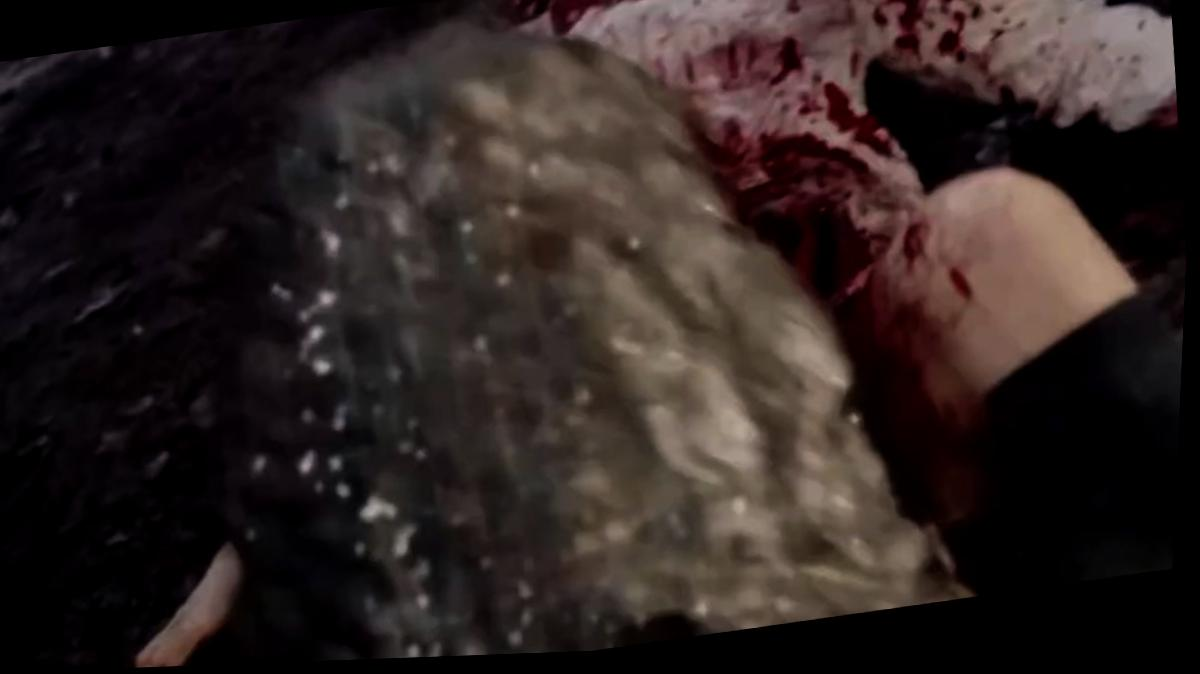Fire: (510, 0, 1180, 595)
